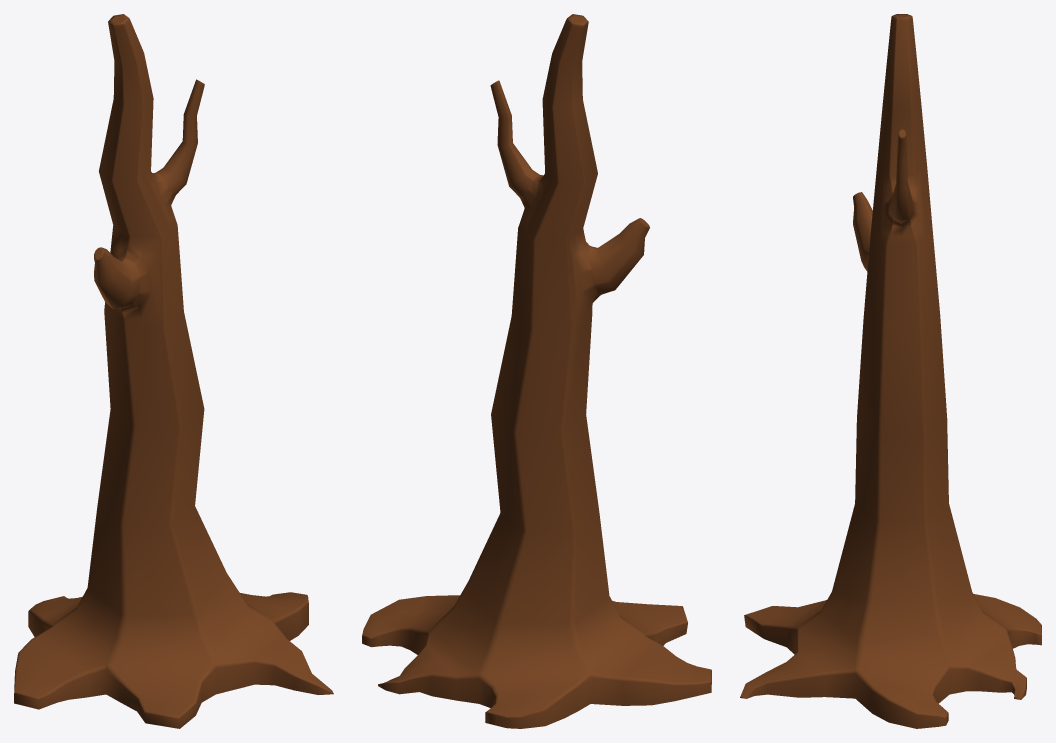
File: tree_1_2.fbx
The picture shows the model from 3 angles, left to right: view 1: azimuth 30°, elevation 25°; view 2: azimuth 150°, elevation 25°; view 3: azimuth 270°, elevation 25°; orthographic projection. The views are drawn at different scales.
Parts seen in each view (by area): view 1: Circle.008; view 2: Circle.008; view 3: Circle.008.
Part boxes in pixels (x1,y1,x2,y2): Circle.008: (14,14,333,728); Circle.008: (362,14,711,728); Circle.008: (740,14,1041,728).
Bounding box in the file's own units: 445 × 873 × 384.
